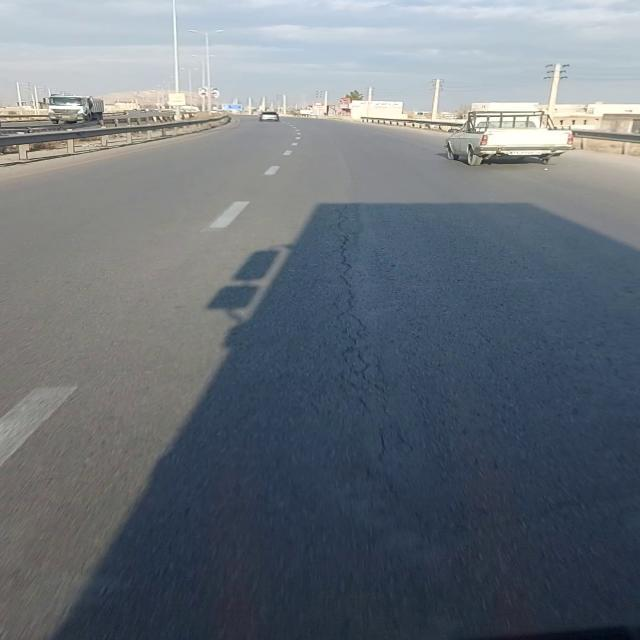Pickup: (431, 106, 590, 172)
Truck: (41, 89, 113, 125)
